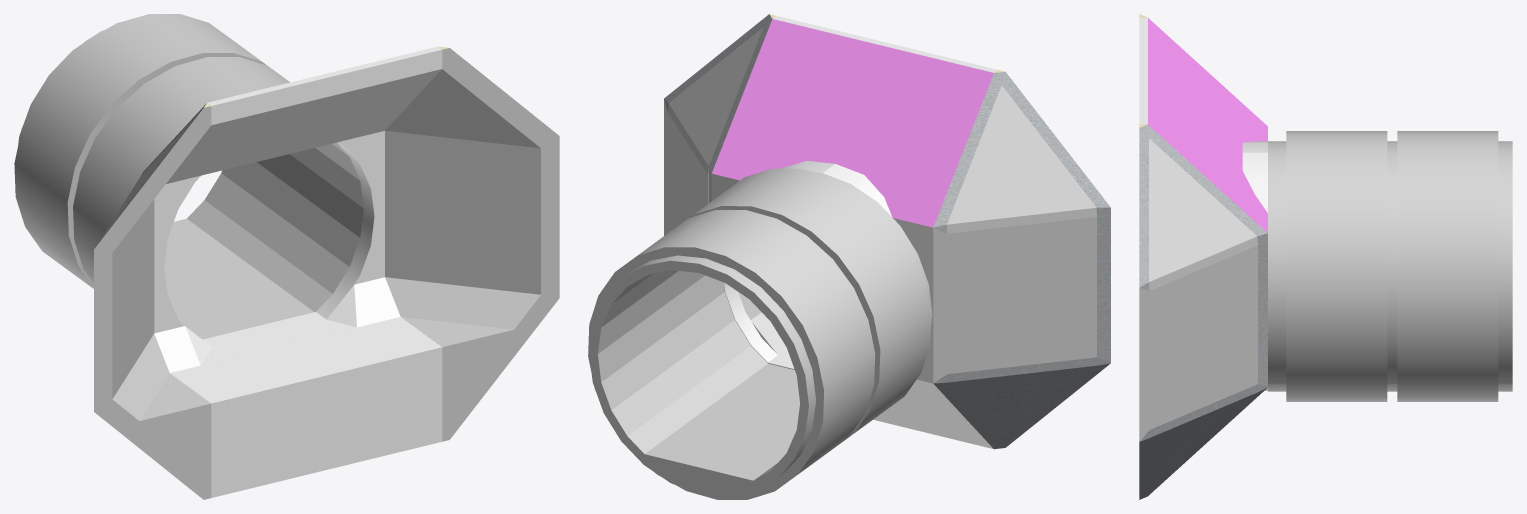
File: MODUL3.fbx
3 renders of one model, left to right at view 1: azimuth 30°, elevation 25°; view 2: azimuth 150°, elevation 25°; view 3: azimuth 270°, elevation 25°, orthographic. The views are drawn at different scales.
Visible parts, largest first — view 1: Componente_41_1, Componente_31_1, Componente_44_1, Componente_31_2, Componente_38_1, Componente_38_2; view 2: Componente_31_2, Componente_41_1, Componente_44_1, Componente_38_1, Componente_38_2, Componente_31_1; view 3: Componente_31_1, Componente_38_1, Componente_38_2, Componente_41_1, Componente_44_1.
Part boxes in pixels (box(x1,y1,x2,y2)): Componente_41_1: box(154, 46, 442, 497); Componente_31_1: box(385, 46, 559, 441); Componente_44_1: box(18, 30, 363, 339); Componente_31_2: box(94, 103, 211, 499); Componente_38_1: box(14, 14, 267, 288); Componente_38_2: box(73, 57, 289, 283); Componente_31_2: box(933, 70, 1110, 449); Componente_41_1: box(711, 16, 997, 448); Componente_44_1: box(589, 172, 932, 496); Componente_38_1: box(588, 210, 875, 499); Componente_38_2: box(689, 168, 931, 436); Componente_31_1: box(664, 14, 776, 319); Componente_31_1: box(1139, 124, 1267, 499); Componente_38_1: box(1397, 131, 1498, 401); Componente_38_2: box(1286, 131, 1387, 401); Componente_41_1: box(1139, 17, 1267, 390); Componente_44_1: box(1268, 141, 1512, 391).
Bounding box in the file's own units: 5.05 × 4.06 × 3.69.
